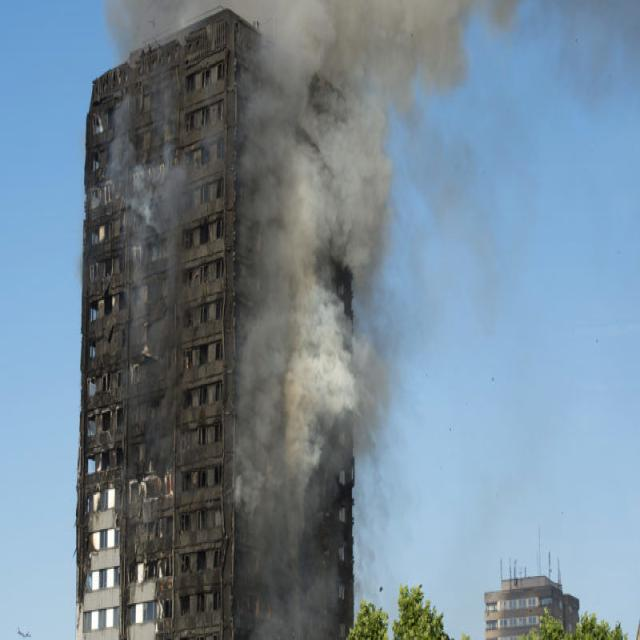smoke: (249, 6, 371, 487), (371, 7, 456, 99), (115, 5, 181, 46)
